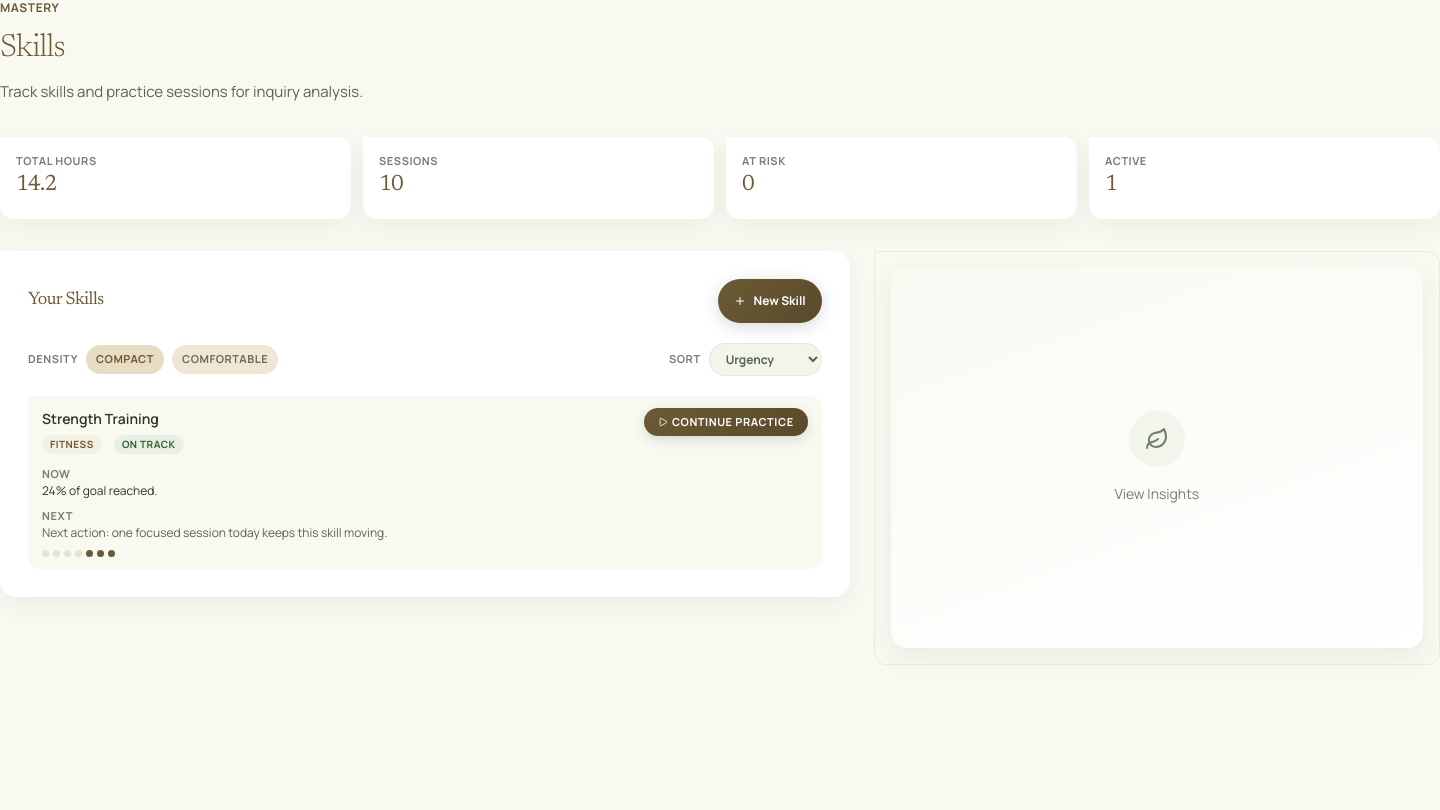
it: SkillsPage create flow rollout behavior › renders hour units and milestone qualitative guidance in goal snapshot
This screenshot has width=1440, height=810.
Click the button with aria-label "open details for strength training" at [100, 418], box [28,396,822,569]
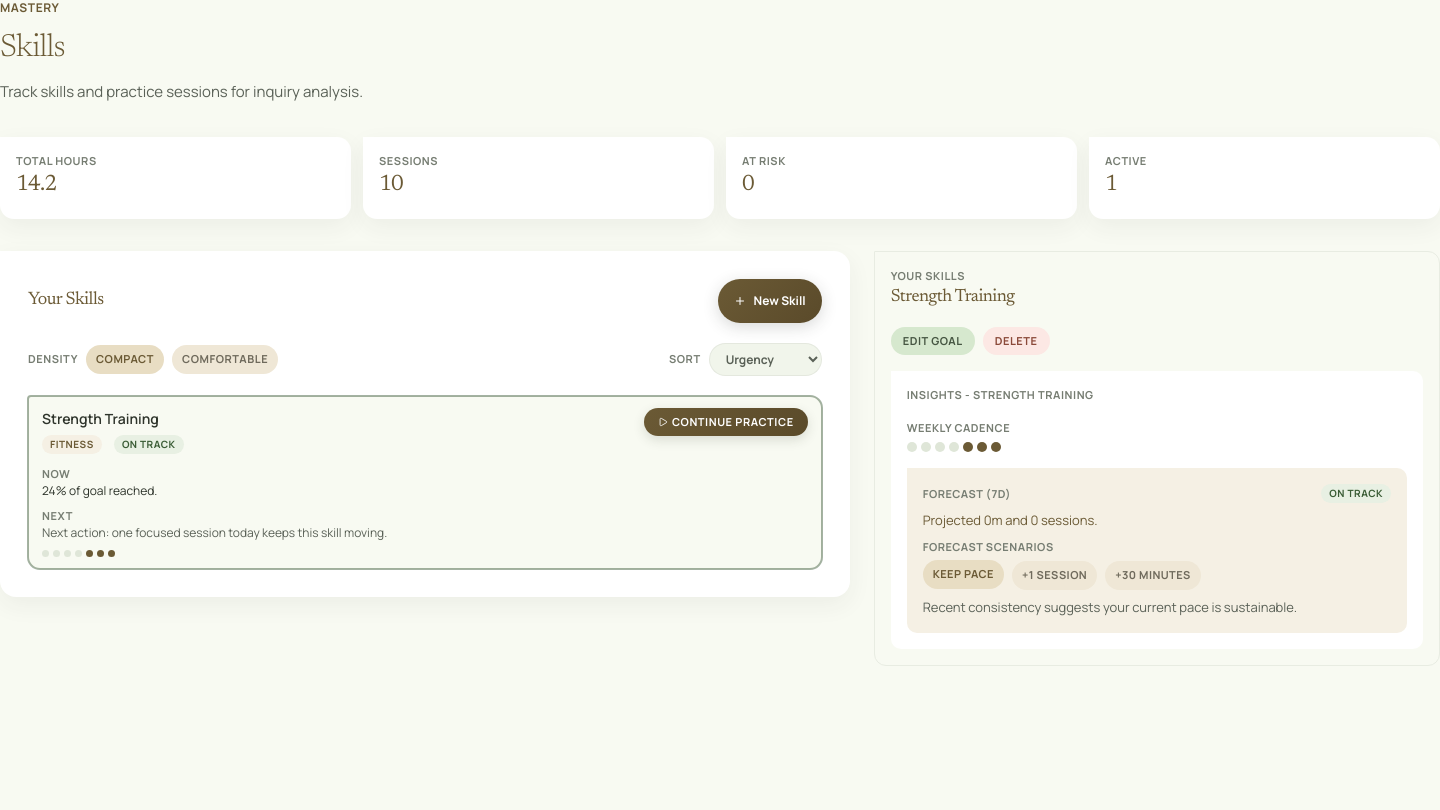
Click the button "Edit Goal" at [933, 341], box [891,327,975,355]
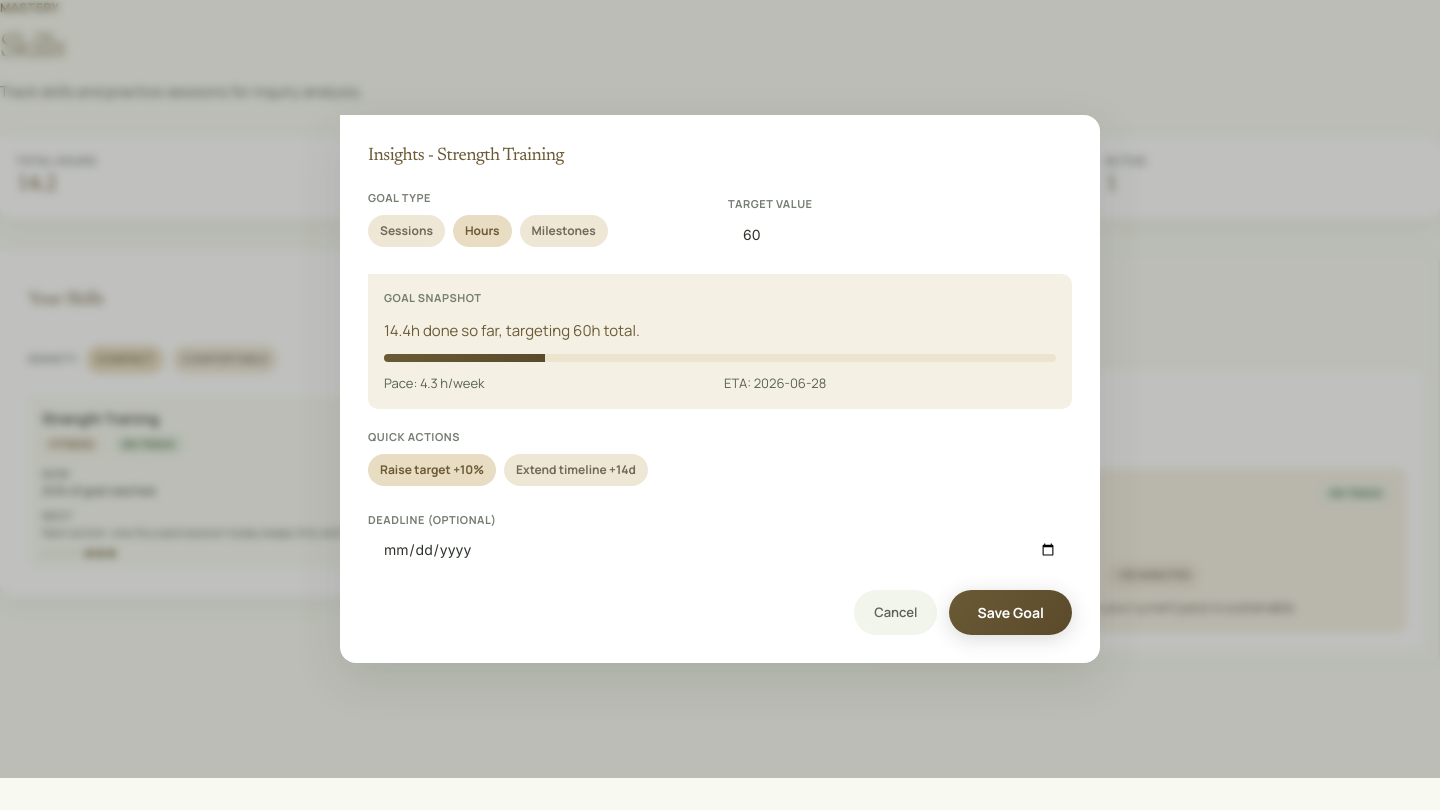
expect the text "14.4h done so far, targeting 60h total." is shown: met, box [384,320,640,341]
expect the text "Pace: 4.3 h/week" is shown: met, box [384,374,484,392]
Click the button "Milestones" at [564, 231], box [520,215,608,247]
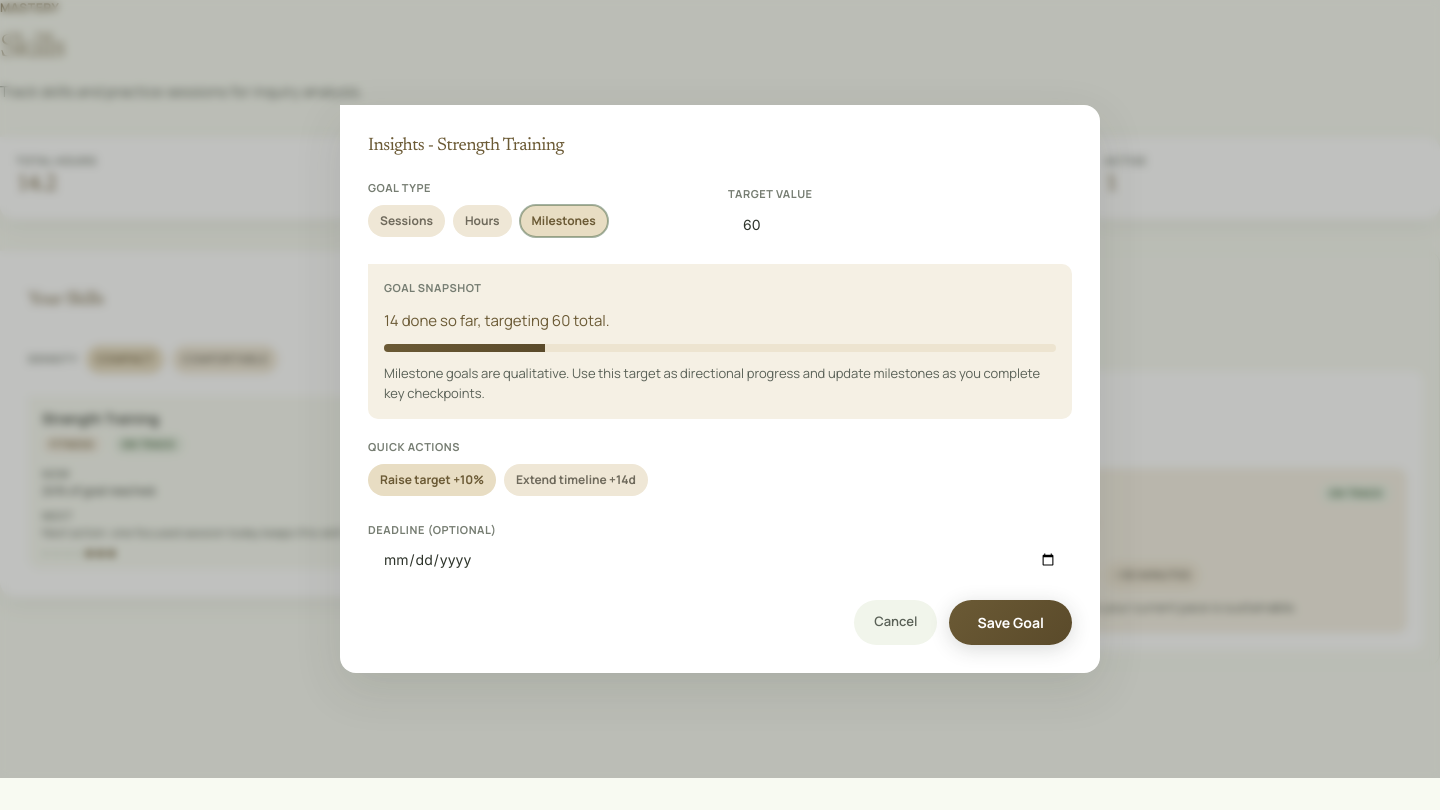
expect the text "Milestone goals are qualitative" is shown: met, box [384,364,1040,402]
